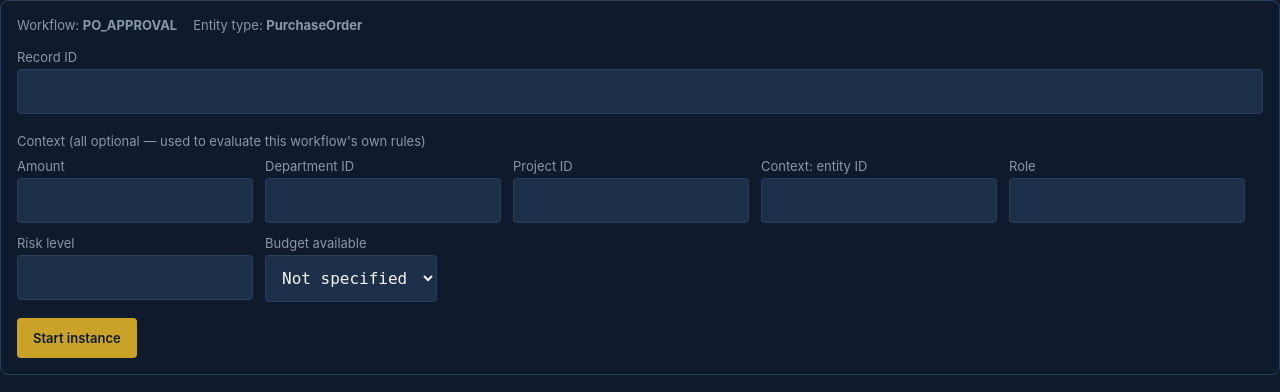
Scenario: StartInstanceForm — submit › falls back to a generic error message when the action fails without one
Step 1. Type "po-123" into the field labelled "Record ID" → {"x": 640, "y": 92}, box [17, 69, 1263, 114]
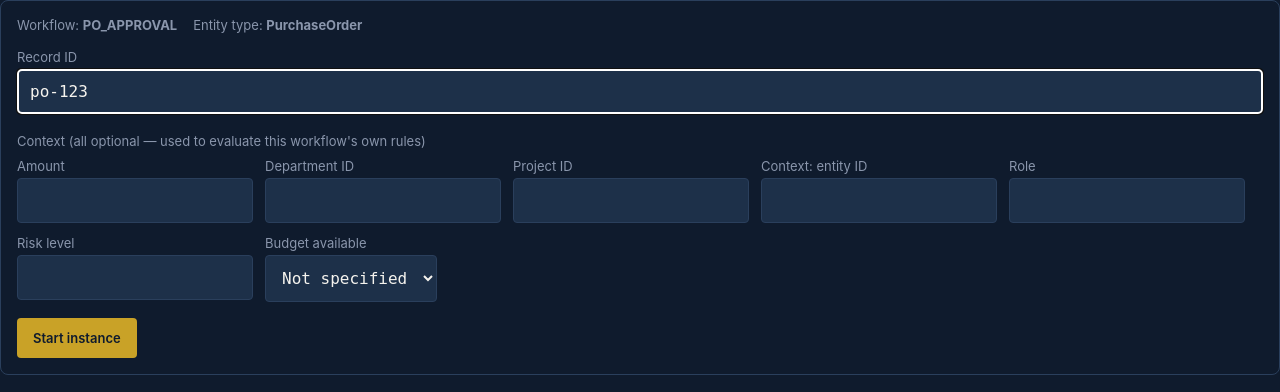
Step 2. Click the button "Start instance" → {"x": 77, "y": 338}, box [17, 318, 137, 358]
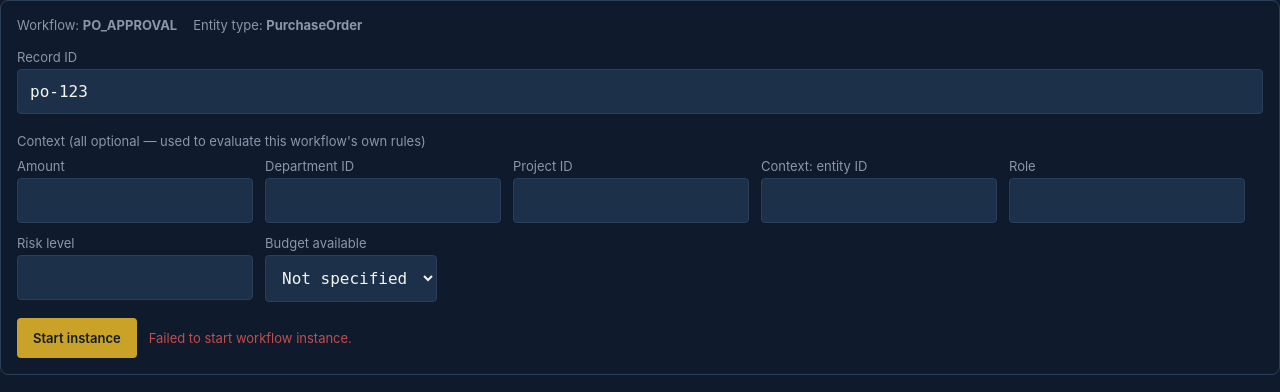
Check: the text "Failed to start workflow instance." is shown, box [149, 330, 352, 346]
